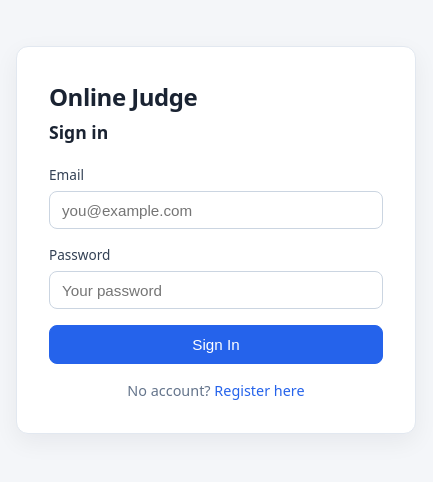
Test: LoginPage › displays error on failed login
The width and height of the screenshot is (433, 482).
Type "test@test.com" into the field labelled "Email". click: (216, 210)
box: [49,191,383,229]
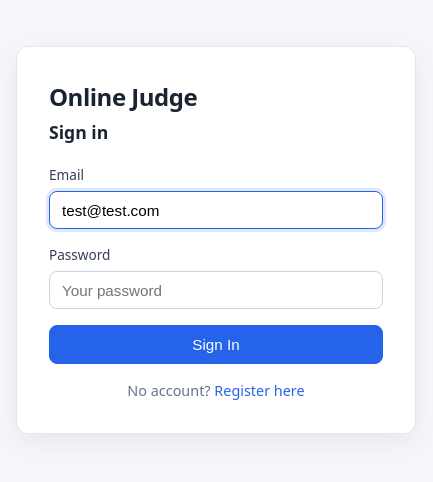
Type "wrong" into the password field labelled "Password". click: (216, 290)
box: [49,271,383,310]
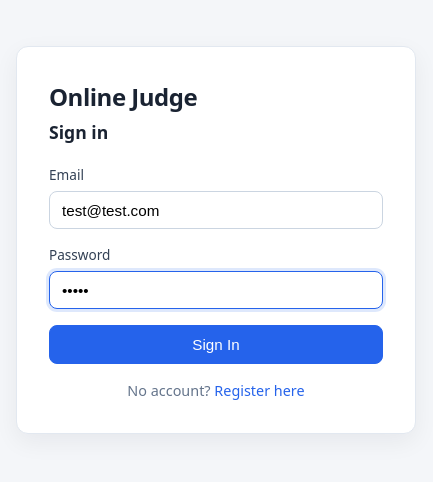
Click the button "Sign In". click: (216, 345)
box: [49,326,383,364]
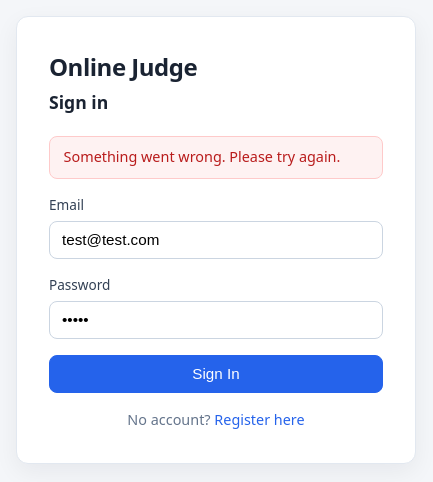
Now the text "Something went wrong. Please try again." is shown, box [49,136,383,178]
